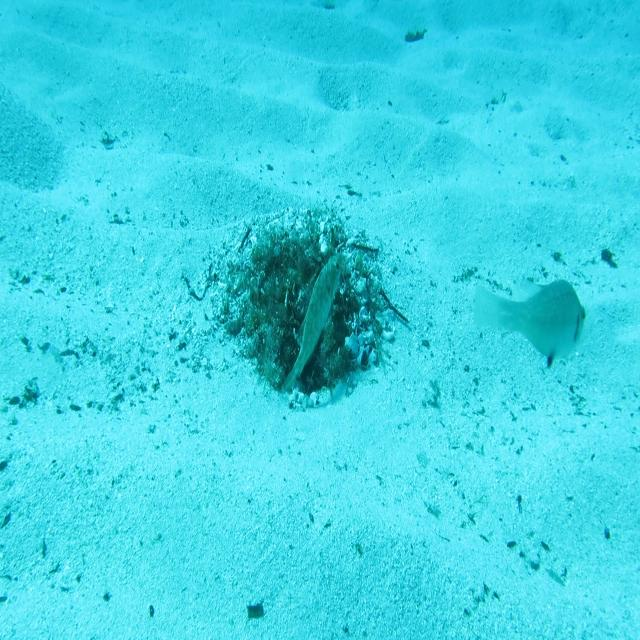FAN: (282, 248, 346, 397)
core_nest: (274, 249, 318, 282)
female: (469, 270, 588, 371)
nest: (206, 196, 404, 427)
vegetation: (600, 247, 619, 272), (247, 600, 266, 623), (402, 28, 426, 44)
